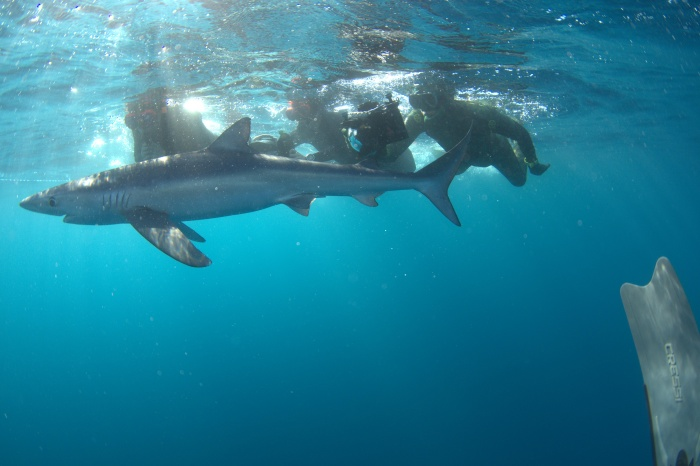Azul: (4, 103, 475, 293)
